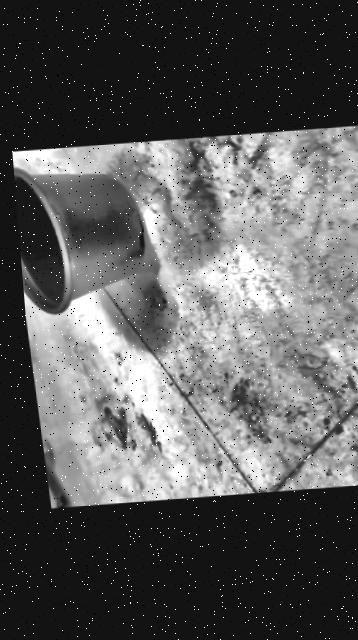pot: (13, 157, 153, 313)
